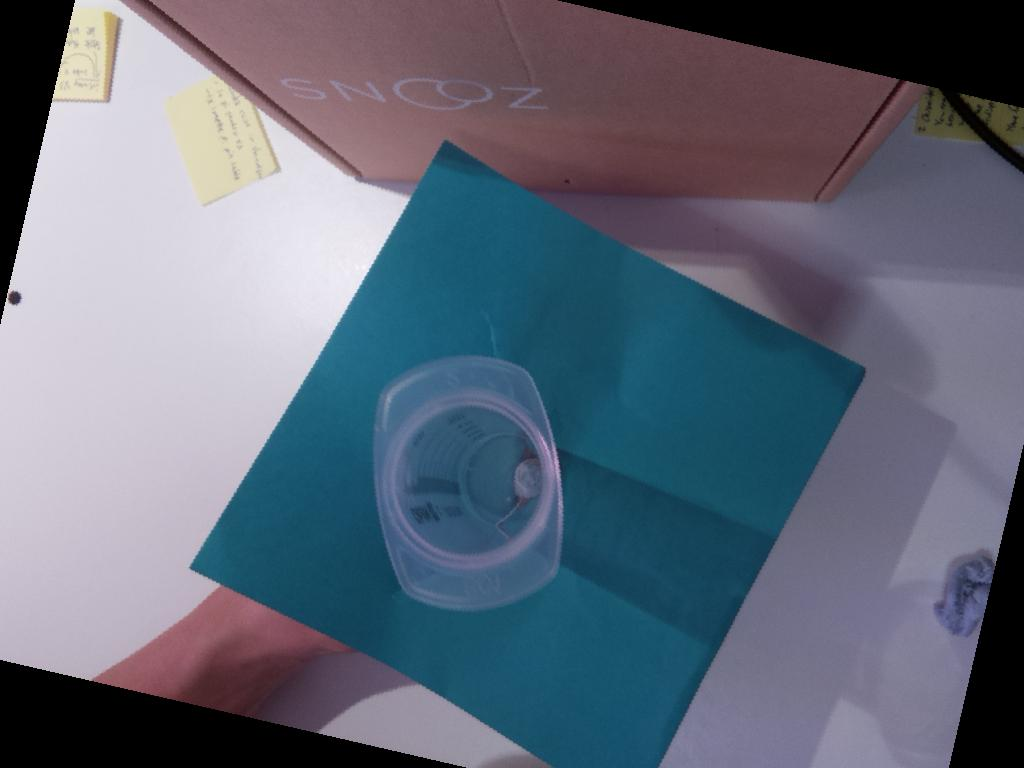clean: (370, 352, 565, 610)
